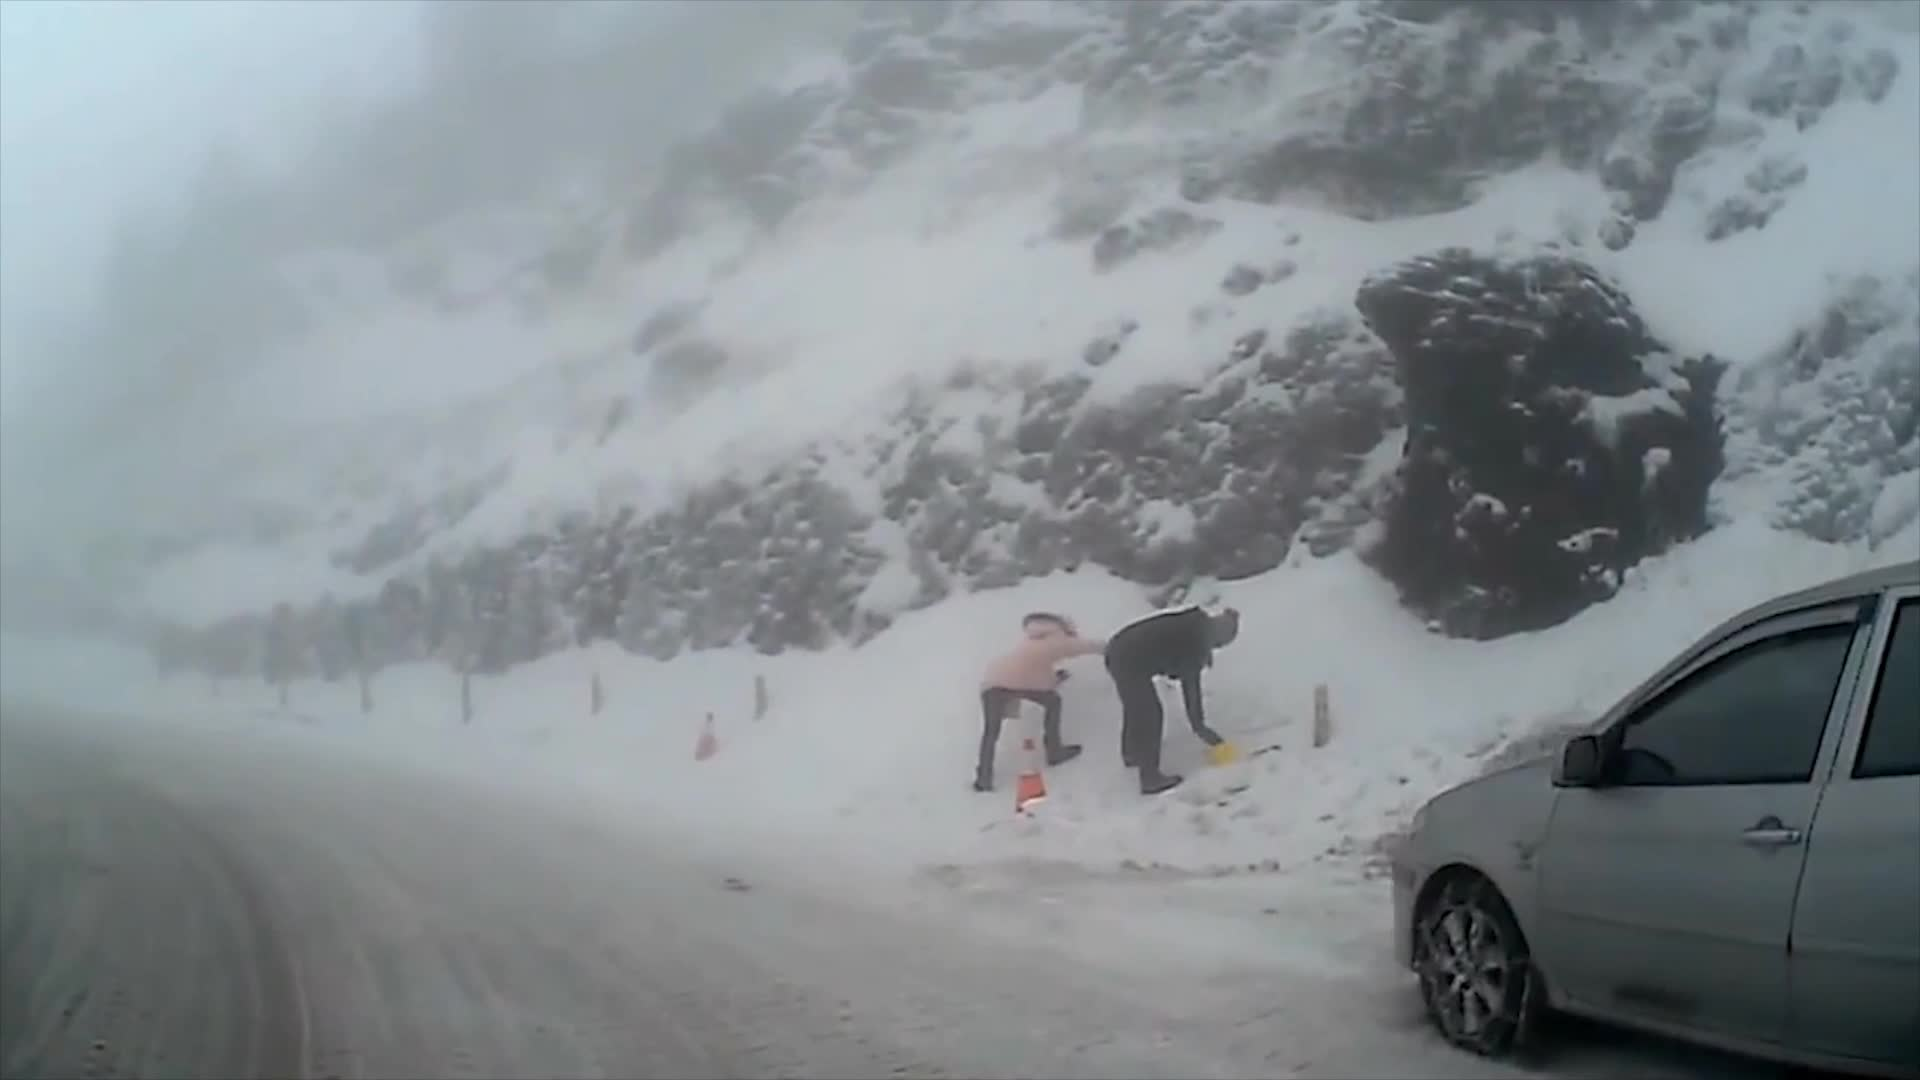pedestrian: (1104, 601, 1238, 793), (968, 605, 1108, 789)
vehicle: (1383, 556, 1920, 1080)
